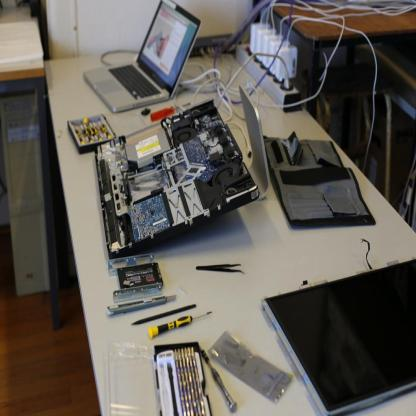board: (262, 260, 416, 416), (96, 3, 204, 108), (202, 346, 236, 412), (146, 310, 212, 340), (106, 294, 177, 318), (151, 100, 192, 121)
